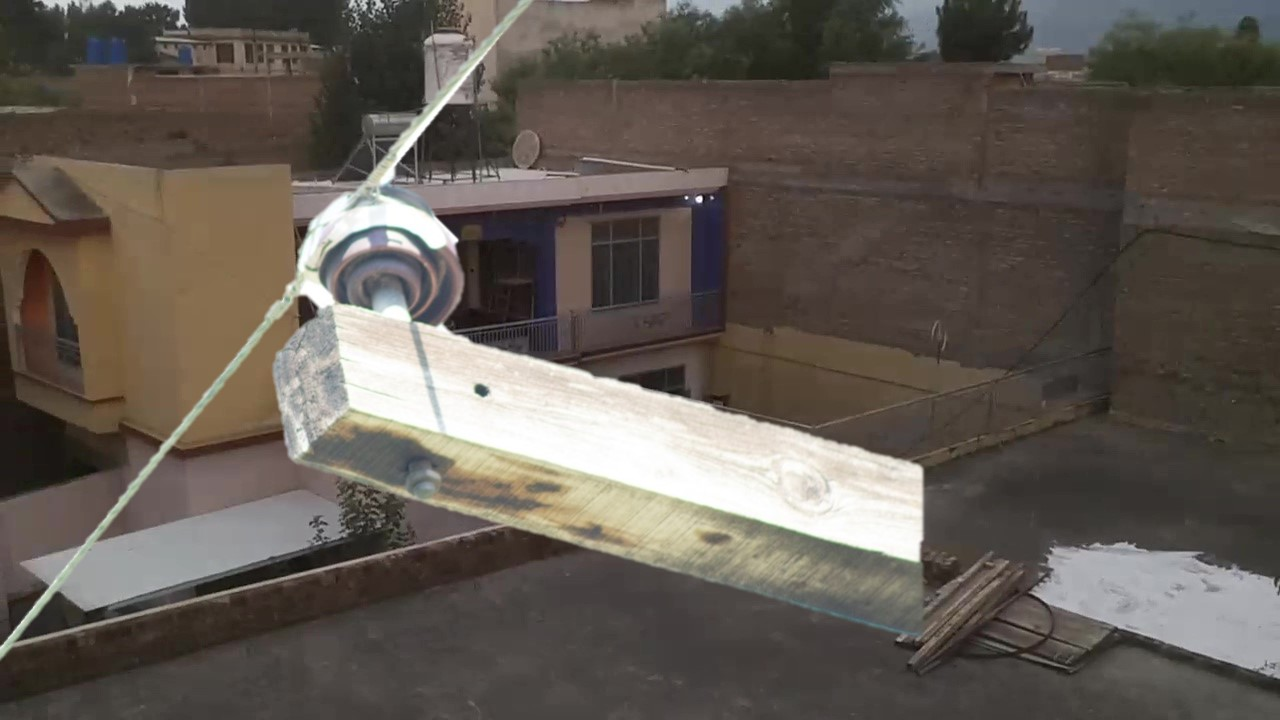defect_pin: (295, 183, 470, 327)
